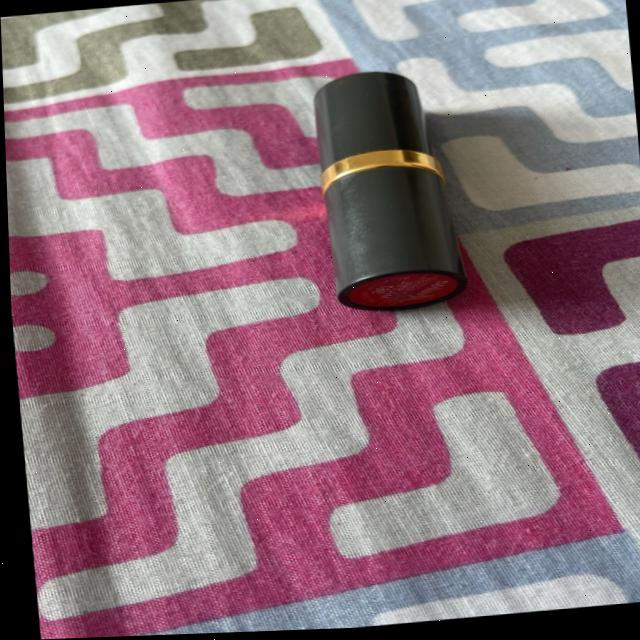lip stick: (262, 43, 485, 352)
